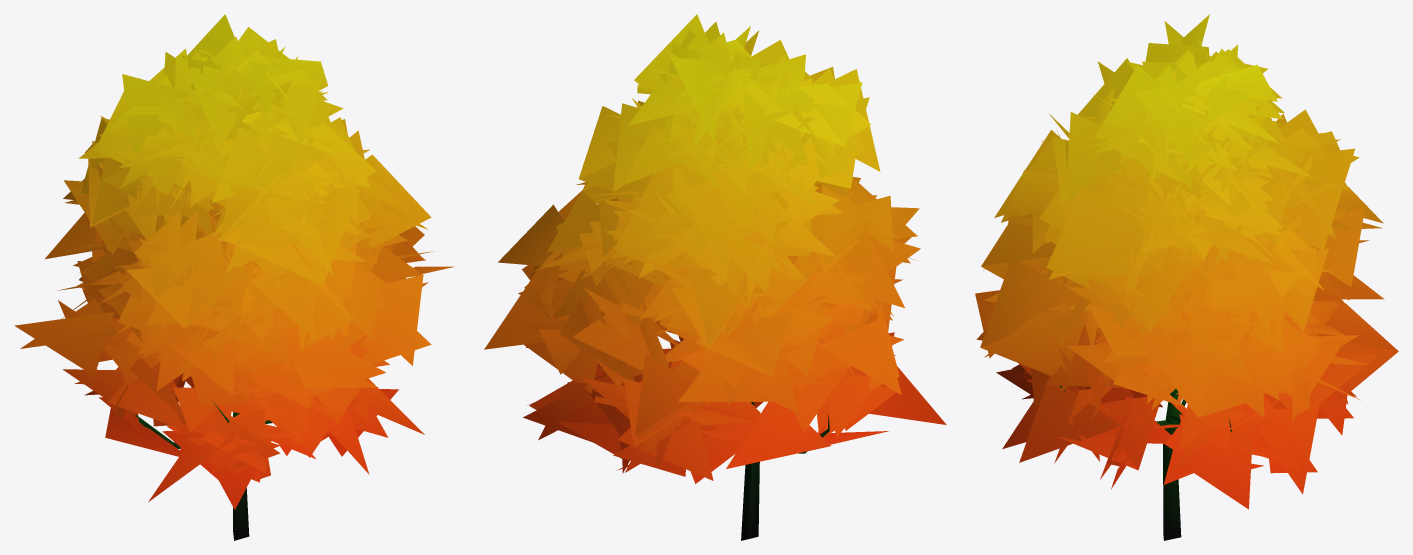
The model's file is large_tree_lod1.obj.
The picture shows the model from 3 angles, left to right: view 1: azimuth 30°, elevation 25°; view 2: azimuth 150°, elevation 25°; view 3: azimuth 270°, elevation 25°; orthographic projection. The views are drawn at different scales.
Parts seen in each view (by area): view 1: BigTreeLoD1; view 2: BigTreeLoD1; view 3: BigTreeLoD1.
Boxes of the visible parts, <box> form: BigTreeLoD1: <box>14,14,454,540</box>; BigTreeLoD1: <box>484,14,946,540</box>; BigTreeLoD1: <box>975,14,1398,540</box>.
Size of the model in its own units: 29.27 by 34.96 by 27.53.
